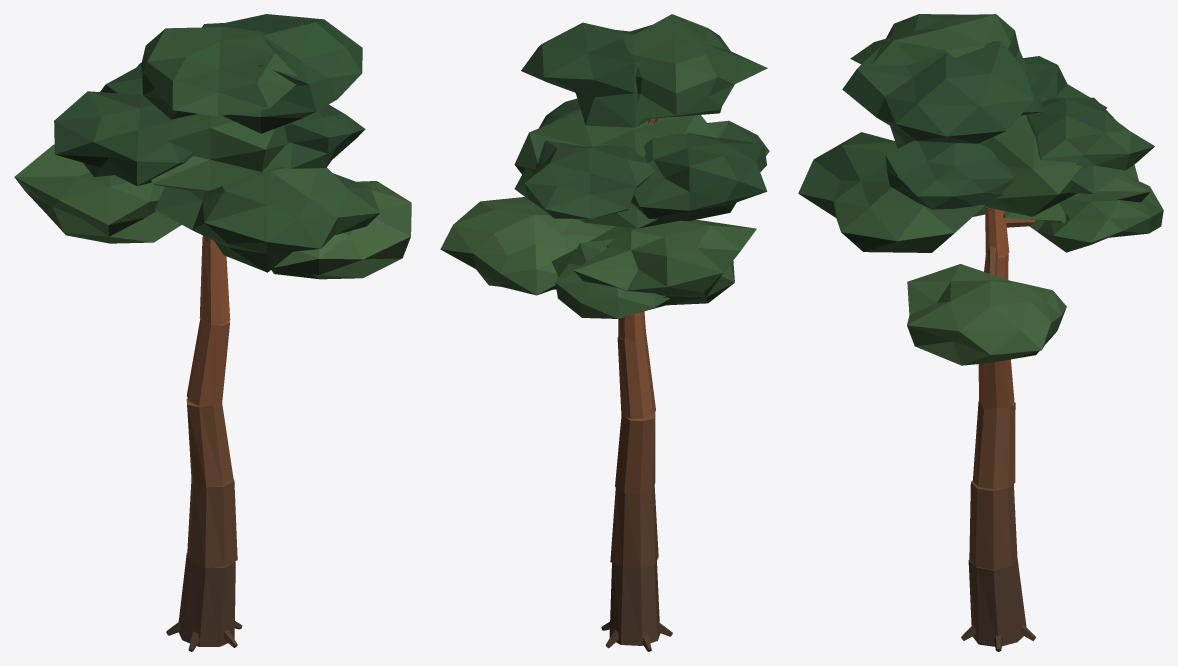
The model's file is Tree_Pine.glb.
3 renders of one model, left to right at view 1: azimuth 30°, elevation 25°; view 2: azimuth 150°, elevation 25°; view 3: azimuth 270°, elevation 25°, orthographic. The views are drawn at different scales.
Parts seen in each view (by area): view 1: Mat_Leaves_365533, Mat_Leaves_2c482c, Mat_Wood_855234, Mat_Wood_67452f, Mat_Leaves_243c24; view 2: Mat_Leaves_365533, Mat_Leaves_2c482c, Mat_Wood_67452f, Mat_Wood_855234, Mat_Leaves_243c24; view 3: Mat_Leaves_365533, Mat_Leaves_2c482c, Mat_Wood_67452f, Mat_Wood_855234, Mat_Leaves_243c24.
Boxes of the visible parts, x1,y1,x2,y2 form: Mat_Leaves_365533: [14, 22, 411, 278]; Mat_Leaves_2c482c: [15, 14, 379, 279]; Mat_Wood_855234: [186, 235, 233, 487]; Mat_Wood_67452f: [178, 478, 237, 646]; Mat_Leaves_243c24: [15, 24, 410, 278]; Mat_Leaves_365533: [440, 14, 768, 318]; Mat_Leaves_2c482c: [476, 14, 769, 311]; Mat_Wood_67452f: [609, 485, 660, 645]; Mat_Wood_855234: [615, 118, 658, 494]; Mat_Leaves_243c24: [522, 55, 765, 305]; Mat_Leaves_365533: [798, 14, 1163, 365]; Mat_Leaves_2c482c: [798, 14, 1163, 365]; Mat_Wood_67452f: [968, 207, 1034, 646]; Mat_Wood_855234: [973, 207, 1015, 489]; Mat_Leaves_243c24: [841, 41, 1152, 365].
Size of the model in its own units: 14.06 by 24.46 by 13.45.
Materials: 1 (1 with a texture image).
